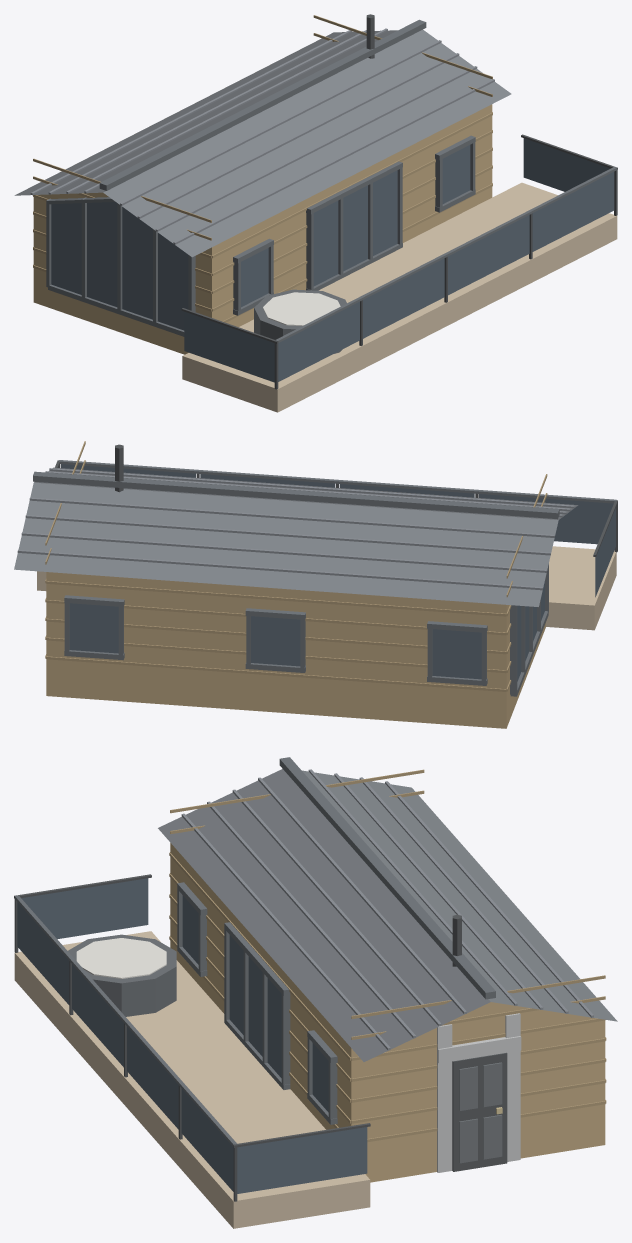
The picture shows the model from 3 angles, top to bottom: view 1: azimuth 30°, elevation 25°; view 2: azimuth 150°, elevation 25°; view 3: azimuth 270°, elevation 25°; orthographic projection. The views are drawn at different scales.
Visible parts, largest first — view 1: slate, larch, door_wood, slate_dk, window_glass_012, slate_lt, door_wood_p, window_glass_005, window_glass_004, window_glass_001, window_glass_002, window_glass_003 (+9 smaller); view 2: door_wood, slate, slate_dk, slate_lt, door_wood_p, larch, window_glass_015, window_glass_014, window_glass_013, window_glass_001, window_glass_005, window_glass_012 (+4 smaller); view 3: slate, door_wood, larch, slate_dk, slate_lt, door_wood_p, window_glass_006, stone_band, window_glass_005, band_dark, door_dark_p, door_dark (+11 smaller).
Boxes of the visible parts, x1,y1,x2,y2 form: slate: (14,29,511,257); larch: (182,182,617,412); door_wood: (33,49,492,354); slate_dk: (46,19,617,342); window_glass_012: (51,202,188,330); slate_lt: (30,28,494,244); door_wood_p: (33,15,492,322); window_glass_005: (184,311,274,382); window_glass_004: (532,172,614,251); window_glass_001: (278,301,359,381); window_glass_002: (363,258,444,338); window_glass_003: (448,215,529,295); door_wood: (46,572,545,728); slate: (14,467,578,606); slate_dk: (33,460,616,696); slate_lt: (17,468,574,590); door_wood_p: (45,441,547,691); larch: (37,546,616,630); window_glass_015: (432,629,481,679); window_glass_014: (251,616,300,666); window_glass_013: (69,603,118,653); window_glass_001: (479,494,613,544); window_glass_005: (595,508,615,597); window_glass_012: (517,581,544,681); slate: (158,769,617,1061); door_wood: (170,843,605,1182); larch: (14,931,370,1228); slate_dk: (14,757,495,1146); slate_lt: (181,769,593,1050); door_wood_p: (169,769,606,1142); window_glass_006: (237,1127,367,1193); stone_band: (437,1013,521,1172); window_glass_005: (21,878,148,939); band_dark: (68,934,176,1016); door_dark_p: (459,1062,502,1163); door_dark: (452,1052,507,1171).
Bounding box in the file's own units: 11.84 × 4.08 × 9.93.
